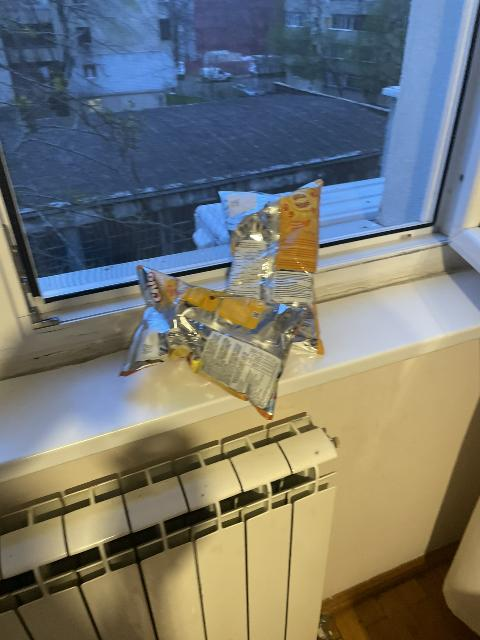Chio Cascaval 125g: (126, 266, 315, 412)
Chio Hula Hoops Cheese 70g: (219, 186, 318, 317)
